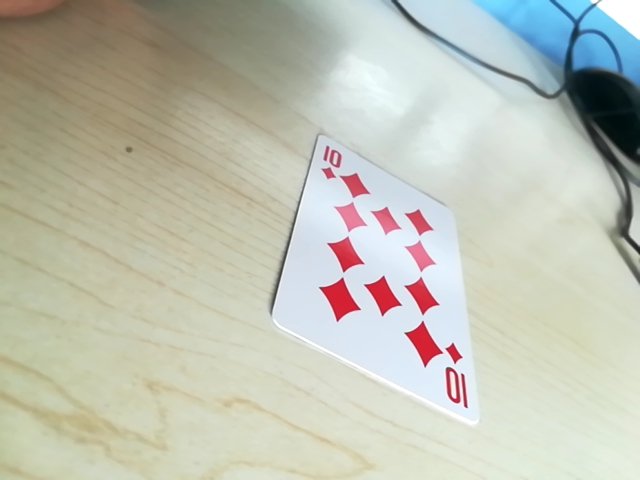fk 10: (432, 357, 473, 418), (311, 133, 352, 190)
